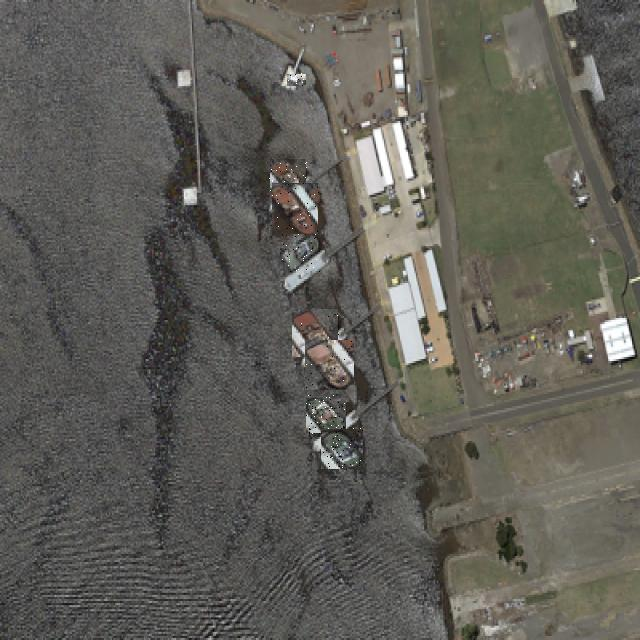boat: (270, 185, 320, 236), (304, 340, 354, 390), (291, 310, 339, 357), (322, 428, 363, 470), (306, 395, 345, 434), (282, 234, 320, 273), (269, 160, 307, 197), (288, 72, 304, 88)
